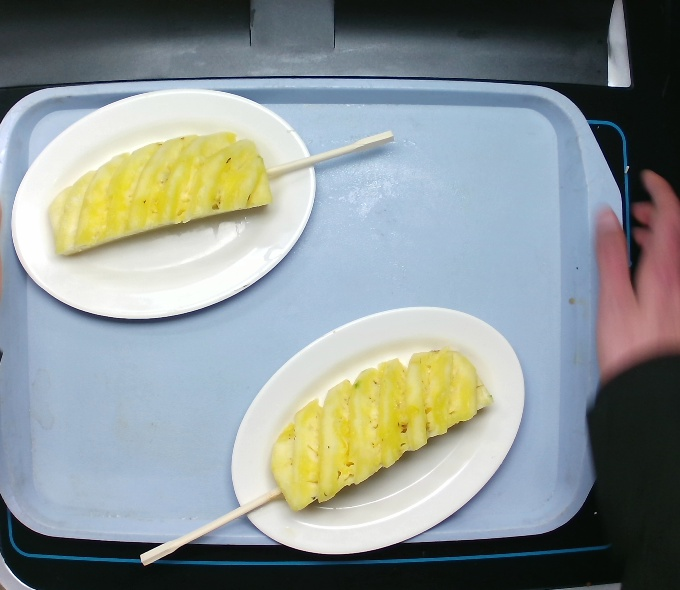wcq-BoLuo: (259, 340, 504, 516), (37, 117, 290, 262)
